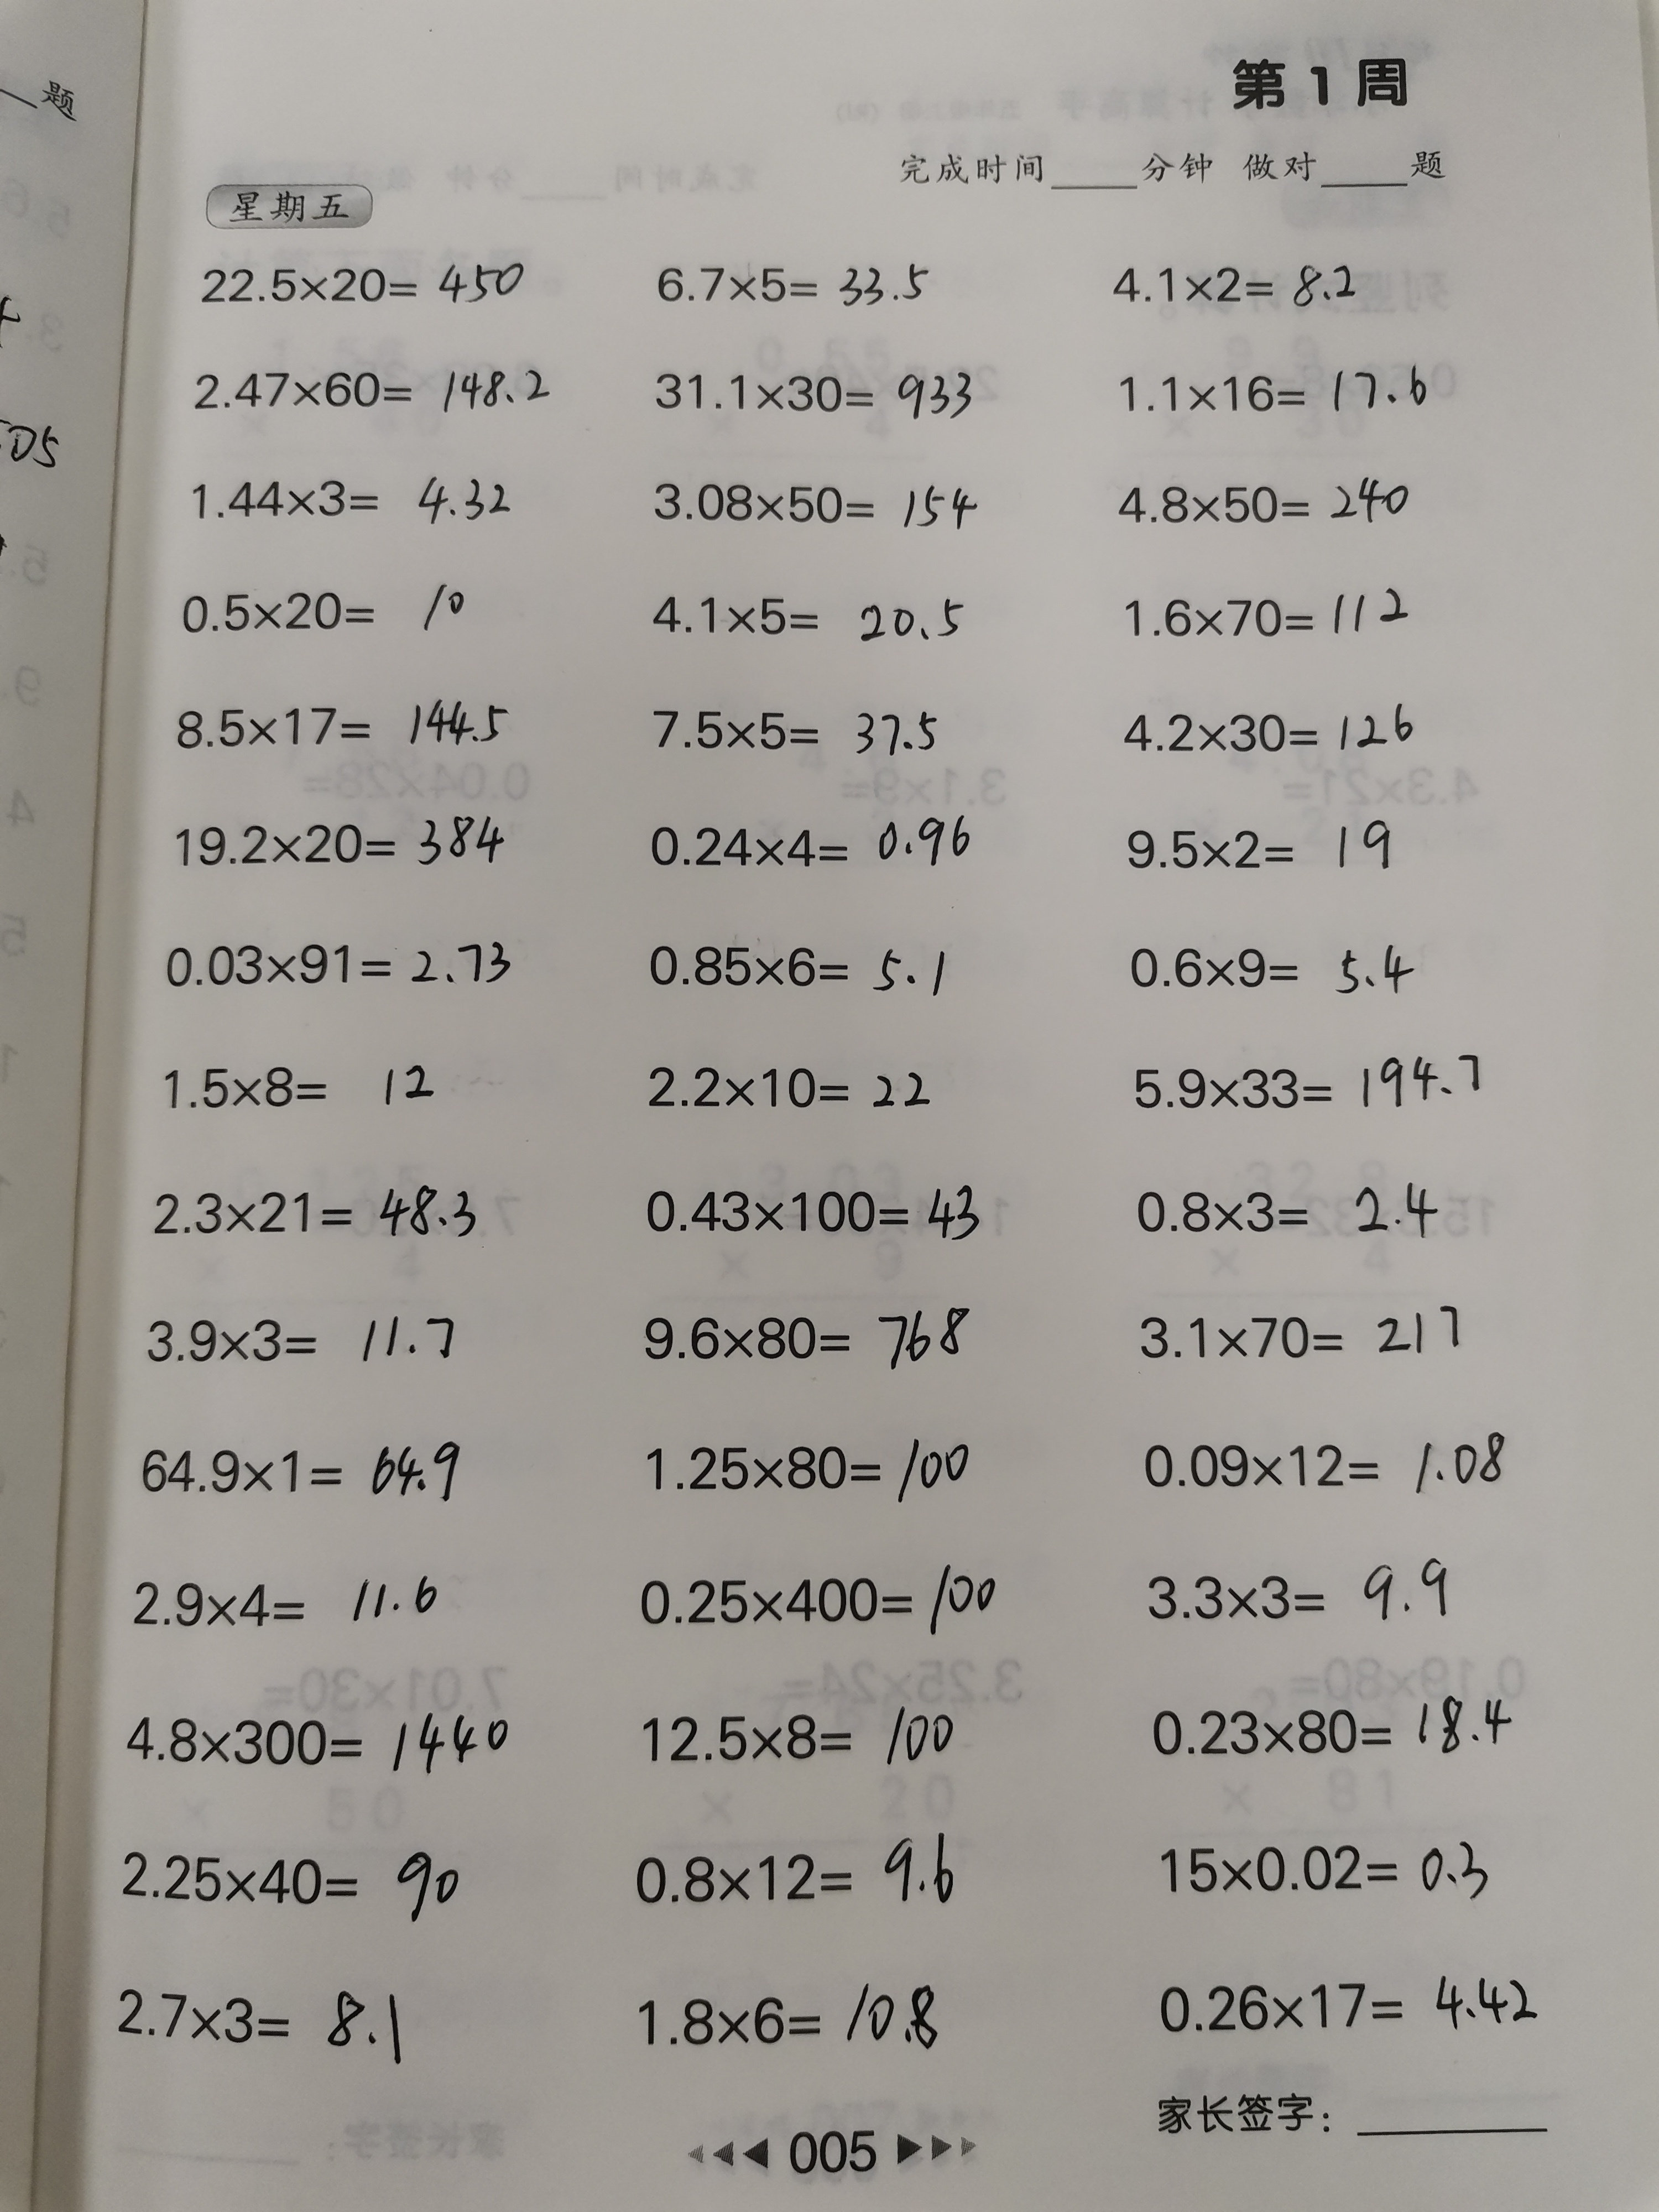equation: (99, 1824, 493, 1935), (1114, 1420, 1523, 1519), (115, 1691, 526, 1787), (615, 1824, 995, 1925), (619, 1555, 1028, 1648), (1107, 1040, 1514, 1132), (99, 1965, 436, 2076), (145, 914, 545, 1007), (1133, 1681, 1534, 1773), (132, 1160, 509, 1258), (631, 914, 981, 1017), (619, 1688, 992, 1784), (1121, 1278, 1493, 1374), (1133, 1954, 1560, 2038), (169, 453, 549, 545), (631, 1160, 1007, 1249), (118, 1294, 505, 1379), (122, 1430, 493, 1519), (631, 1420, 1002, 1508), (155, 678, 538, 763), (152, 796, 535, 881), (638, 568, 985, 660), (1143, 1822, 1507, 1909), (627, 1294, 999, 1379), (178, 347, 572, 427), (1114, 1548, 1471, 1634), (634, 690, 981, 777), (624, 1968, 962, 2057), (638, 799, 988, 885), (1107, 1172, 1457, 1258), (641, 460, 999, 542), (122, 1566, 476, 1648), (136, 1040, 469, 1123), (178, 247, 552, 320), (1100, 453, 1434, 535), (1110, 925, 1431, 1010), (631, 1050, 974, 1127), (1101, 690, 1441, 766), (1100, 354, 1460, 423), (1100, 810, 1434, 885), (638, 357, 995, 427), (162, 571, 512, 641), (1087, 254, 1401, 331), (1107, 578, 1438, 648), (638, 247, 958, 317)
